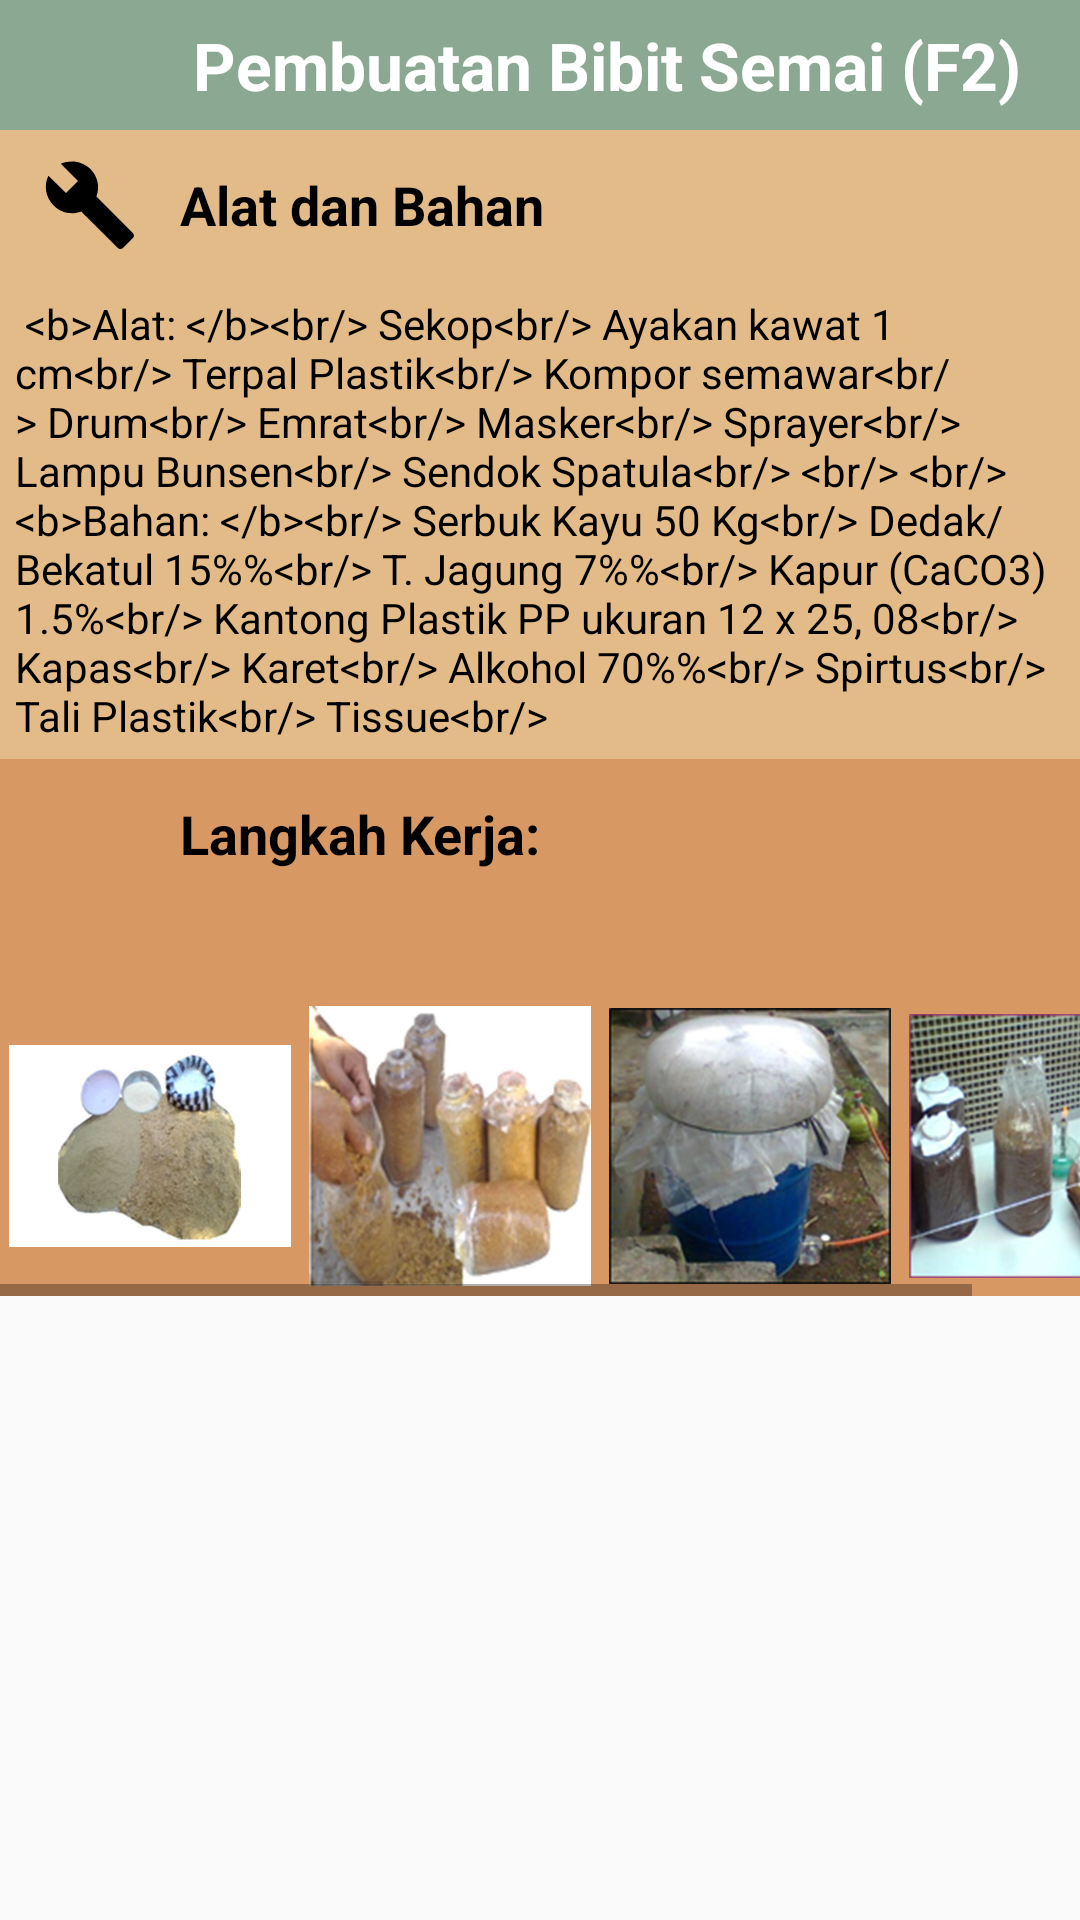

Icon click points for this 1080×1920 phone screenshot, format (x=x, y=y):
build: (x=89, y=205)
